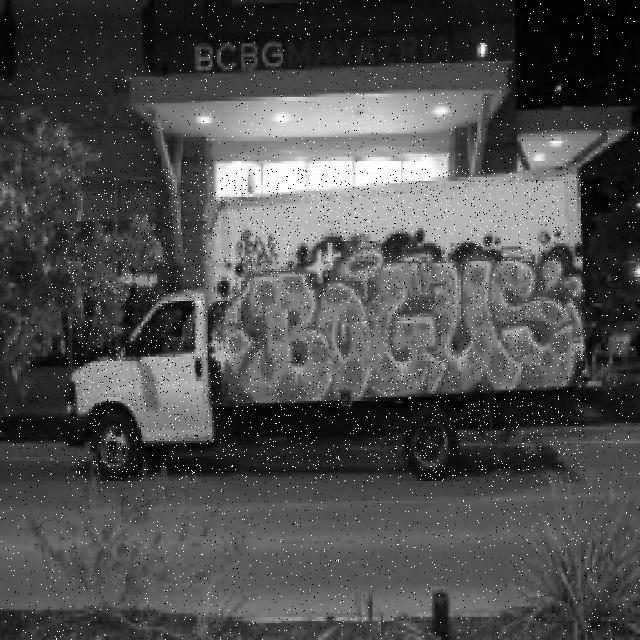Box Truck: (63, 168, 587, 483)
